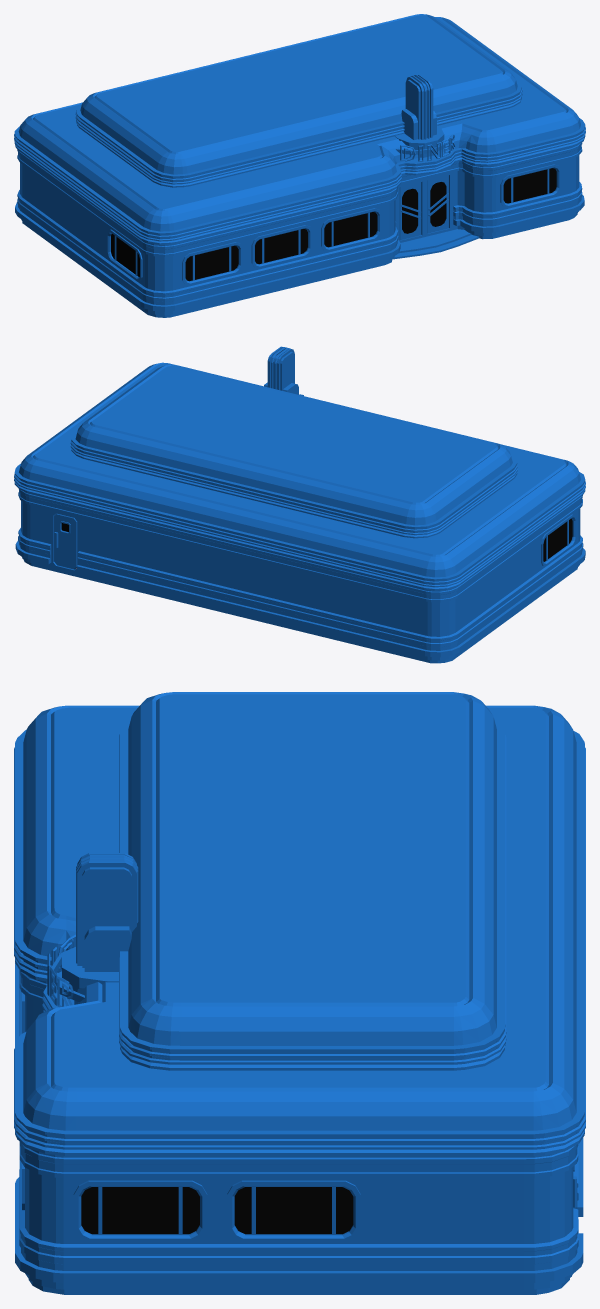
The model's file is SM_estaurant.fbx.
The picture shows the model from 3 angles, top to bottom: view 1: azimuth 30°, elevation 25°; view 2: azimuth 150°, elevation 25°; view 3: azimuth 270°, elevation 25°; orthographic projection. The views are drawn at different scales.
Visible parts, largest first — view 1: Plane_3, Plane_2, Boole_2, Boole_5; view 2: Plane_3, Plane_2, Boole_6; view 3: Plane_3, Plane_2.
Boxes of the visible parts, x1,y1,x2,y2 form: Plane_3: (14,14,585,244); Plane_2: (15,142,584,317); Boole_2: (399,182,421,240); Boole_5: (427,175,448,233); Plane_3: (14,346,585,590); Plane_2: (15,489,585,663); Boole_6: (54,513,77,569); Plane_3: (14,692,585,1155); Plane_2: (15,962,583,1294).
Size of the model in its own units: 1916 by 652 by 1119.
